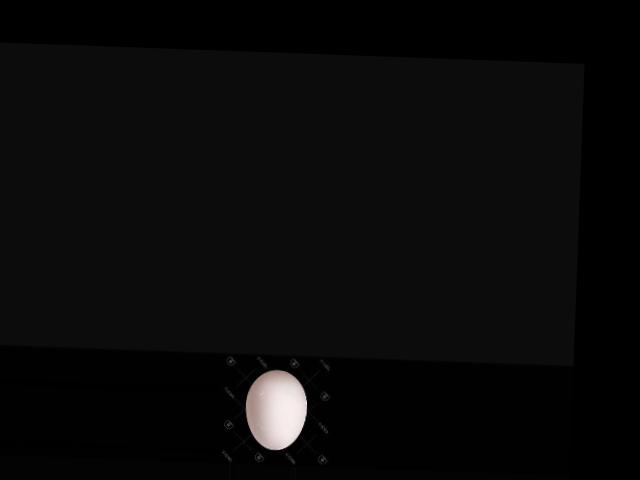egg: (245, 369, 308, 450)
